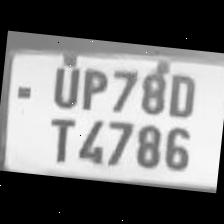4: (74, 113, 108, 167)
6: (158, 124, 196, 174)
7: (105, 62, 140, 114), (100, 116, 134, 168)
8: (135, 64, 170, 116), (132, 119, 164, 171)
D: (162, 68, 201, 119)
P: (76, 64, 111, 112)
T: (40, 110, 76, 164)
U: (44, 59, 83, 111)
